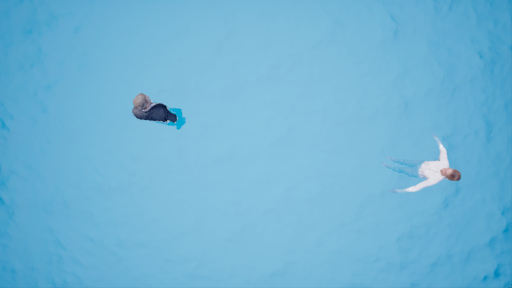person: (371, 136, 466, 197), (126, 88, 192, 132)
